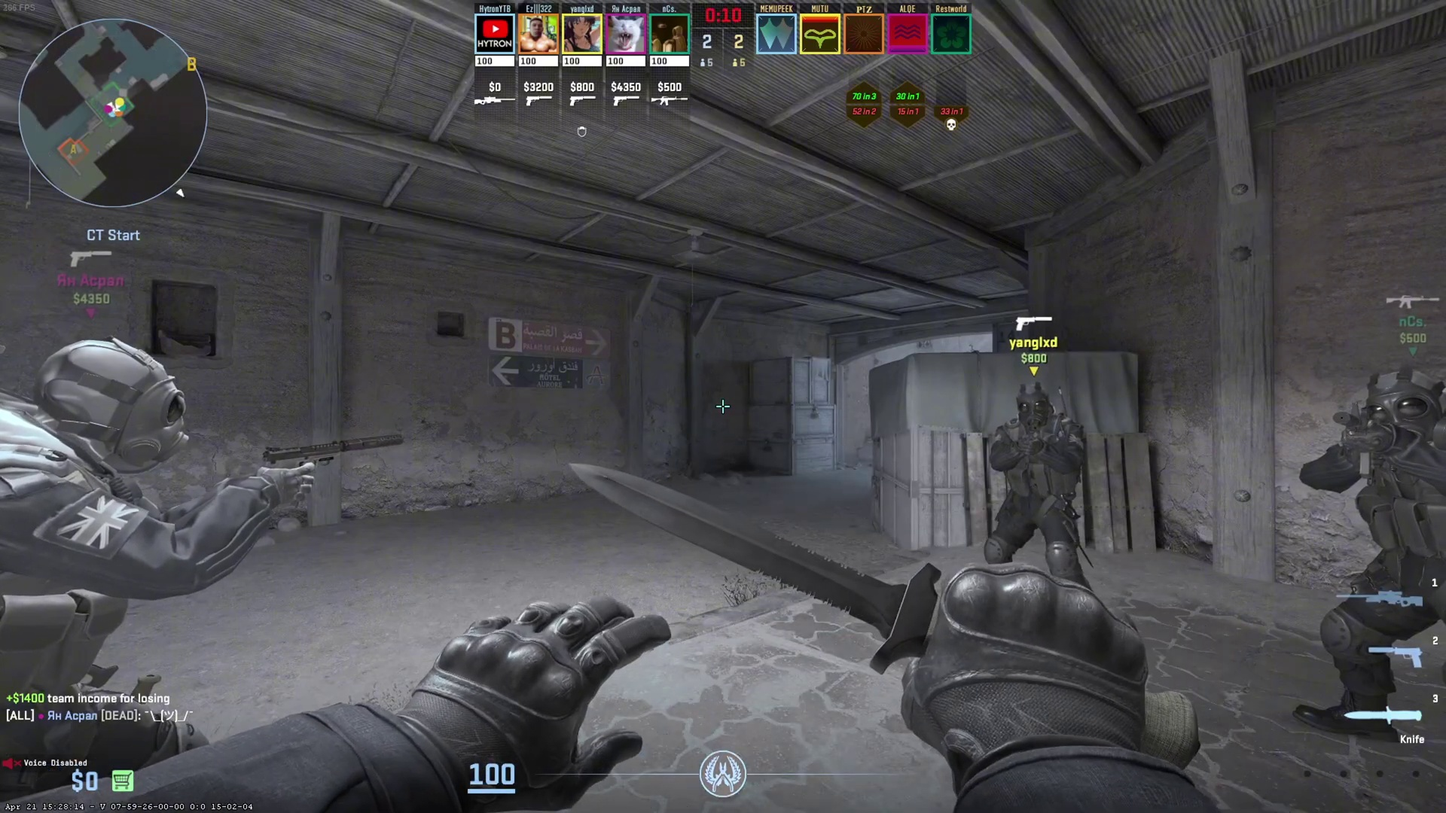CT: (0, 340, 217, 793), (1296, 369, 1446, 731), (985, 384, 1088, 579)
